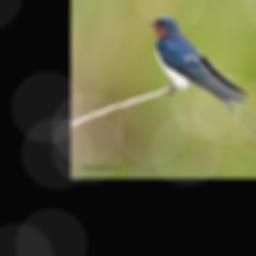Swallow: (148, 16, 256, 135)
